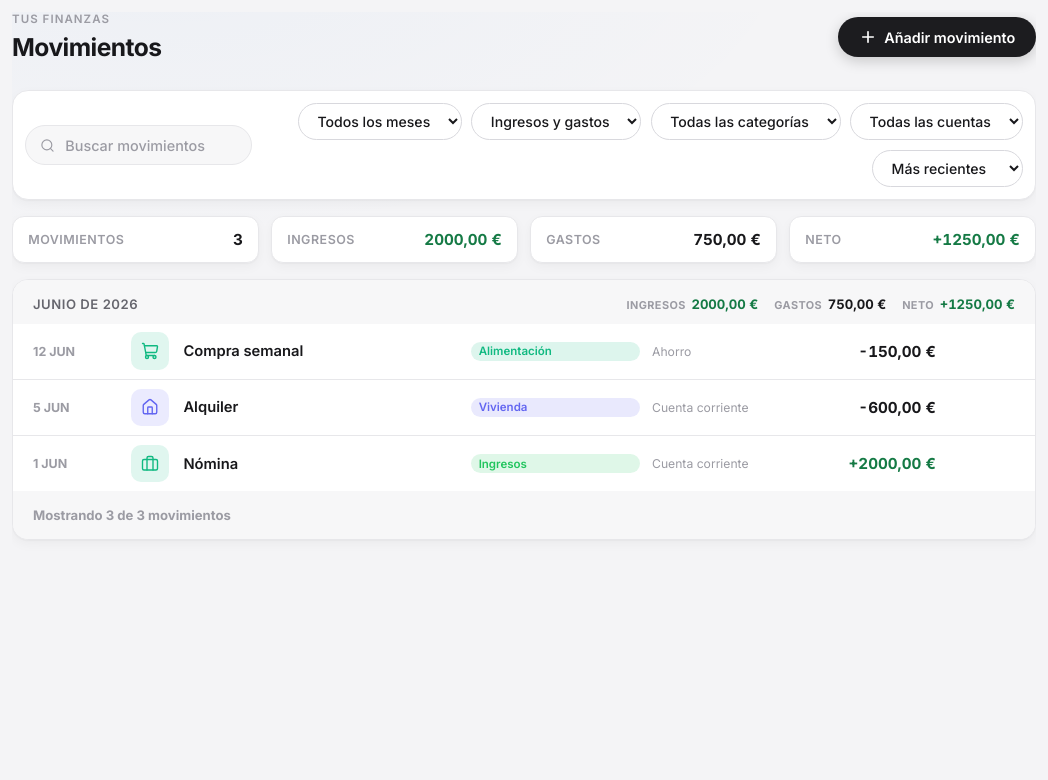
Test: TransactionsPage › filters by expense type
Select "Solo gastos" in the dropdown named "Tipo" at (556, 122), box [472,103,641,140]
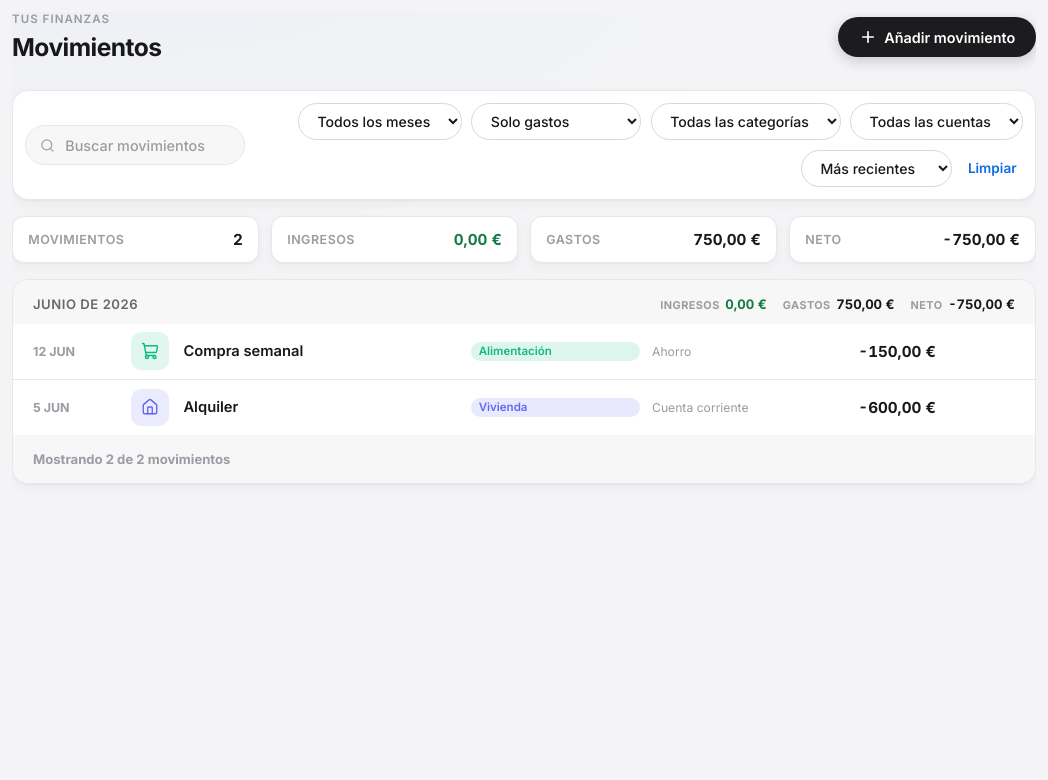
Expected: the text "Alquiler" is shown, [183,398,238,416]
Result: the text "Nómina" is gone
